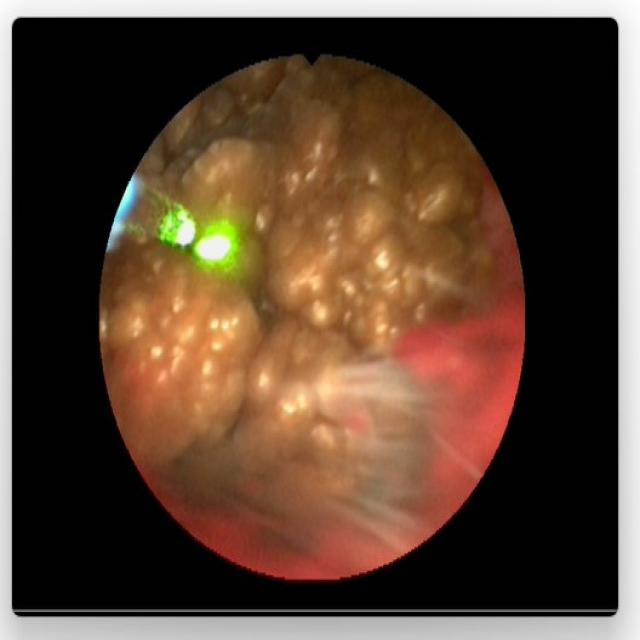stone: (104, 63, 494, 497)
